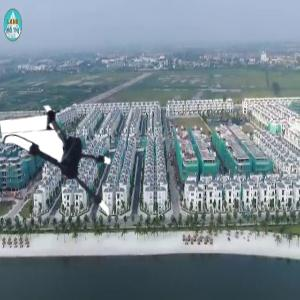drone: (7, 103, 132, 228)
